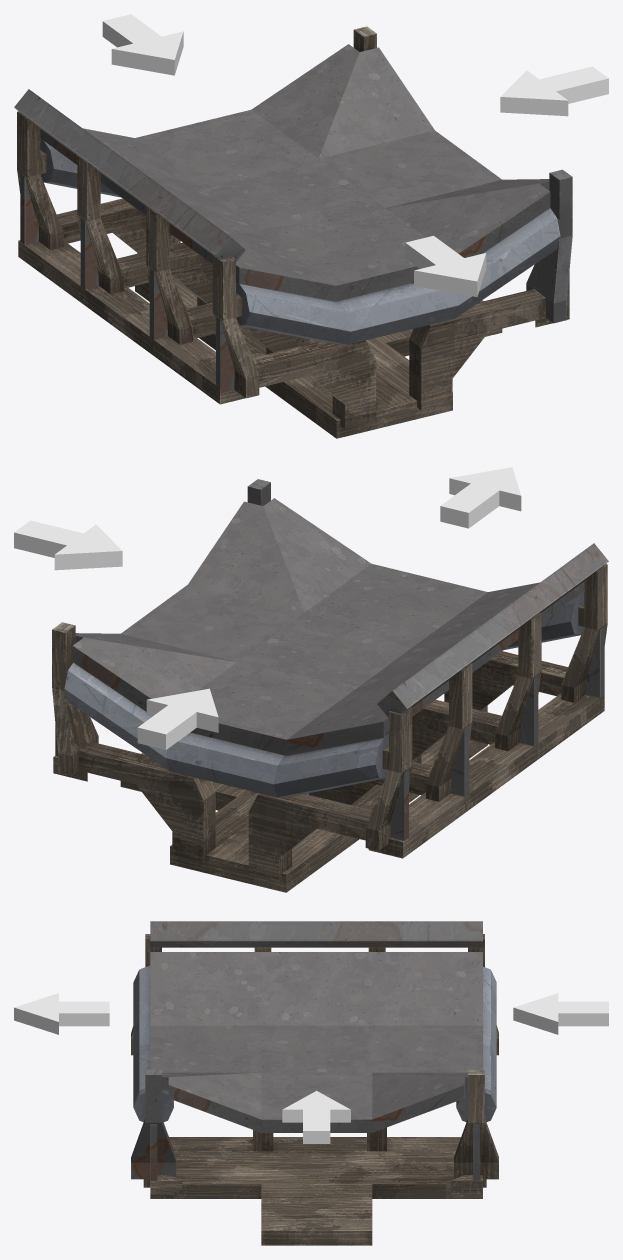
File: LCombiner_Mirror.glb
The picture shows the model from 3 angles, top to bottom: view 1: azimuth 30°, elevation 25°; view 2: azimuth 150°, elevation 25°; view 3: azimuth 270°, elevation 25°; orthographic projection. The views are drawn at different scales.
Parts seen in each view (by area): view 1: Renderer, ghostarrow (2), ghostarrow (1), ghostarrow; view 2: Renderer, ghostarrow (2), ghostarrow (1), ghostarrow; view 3: Renderer, ghostarrow, ghostarrow (1), ghostarrow (2).
Part boxes in pixels (left/top/right/bottom): Renderer: left=14, top=26, right=572, bottom=438; ghostarrow (2): left=500, top=66, right=608, bottom=116; ghostarrow (1): left=102, top=14, right=183, bottom=75; ghostarrow: left=405, top=235, right=486, bottom=296; Renderer: left=52, top=479, right=608, bottom=892; ghostarrow (2): left=14, top=520, right=122, bottom=570; ghostarrow (1): left=137, top=688, right=218, bottom=749; ghostarrow: left=440, top=467, right=521, bottom=528; Renderer: left=131, top=921, right=498, bottom=1245; ghostarrow: left=14, top=993, right=109, bottom=1034; ghostarrow (1): left=513, top=993, right=608, bottom=1034; ghostarrow (2): left=282, top=1090, right=350, bottom=1143.
Size of the model in its own units: 1.39 by 0.6235 by 1.79.
Materials: 4 (2 with a texture image).
